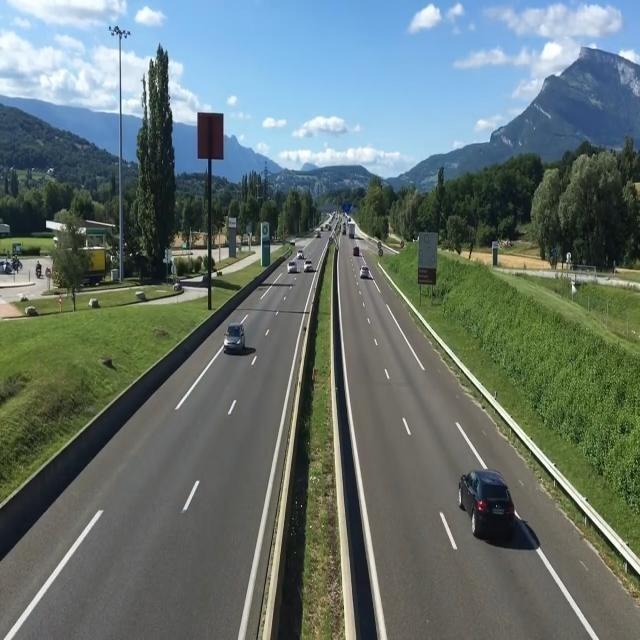Car: (457, 470, 516, 535), (223, 322, 247, 354), (302, 259, 314, 274), (287, 260, 298, 274), (360, 265, 370, 279), (296, 249, 304, 260)
Truck: (348, 221, 356, 239)
